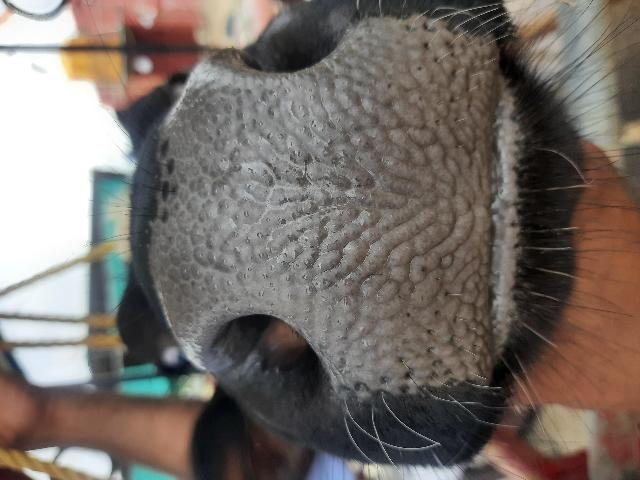Muzzle: (178, 107, 488, 315)
